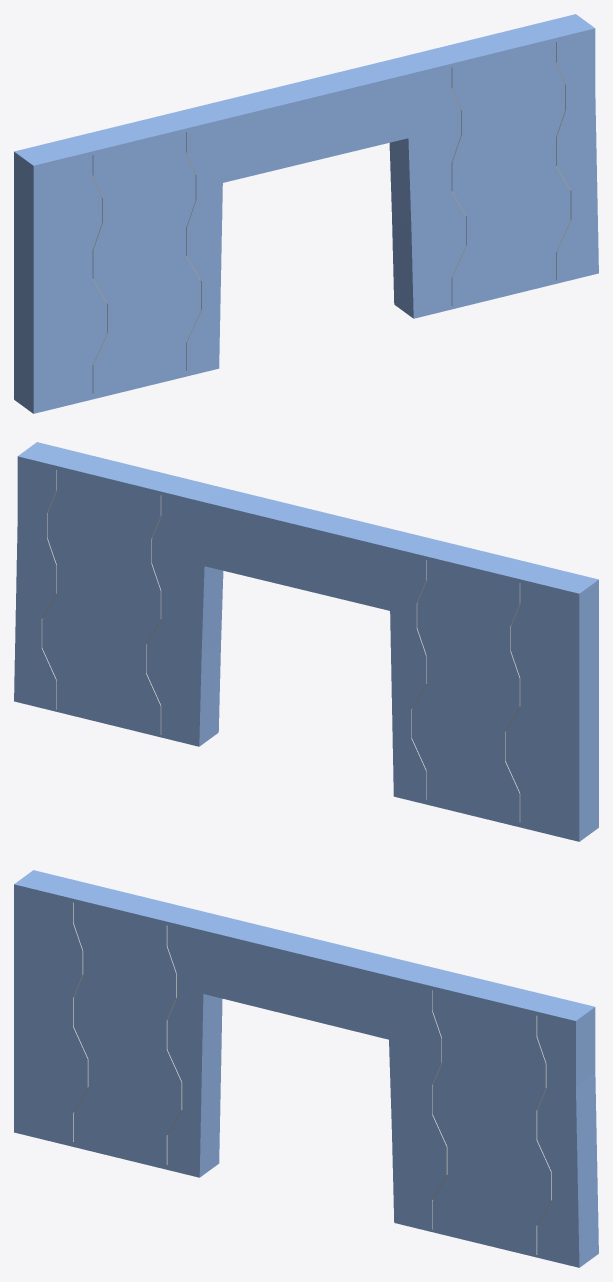
Rendered from frame1.fbx.
3 views of the same model, one above another, from view 1: azimuth 30°, elevation 25°; view 2: azimuth 150°, elevation 25°; view 3: azimuth 330°, elevation 25° (orthographic).
Parts seen in each view (by area): view 1: big frame, lights.003; view 2: big frame, lights.002, lights.001; view 3: big frame, lights.003.
Part boxes in pixels (left/top/right/bottom): big frame: left=14, top=14, right=598, bottom=413; lights.003: left=92, top=42, right=571, bottom=393; big frame: left=14, top=442, right=598, bottom=841; lights.002: left=41, top=470, right=161, bottom=734; lights.001: left=411, top=560, right=520, bottom=821; big frame: left=14, top=870, right=598, bottom=1267; lights.003: left=73, top=902, right=551, bottom=1254.
Bounding box in the file's own units: 8236 × 3459 × 492.
